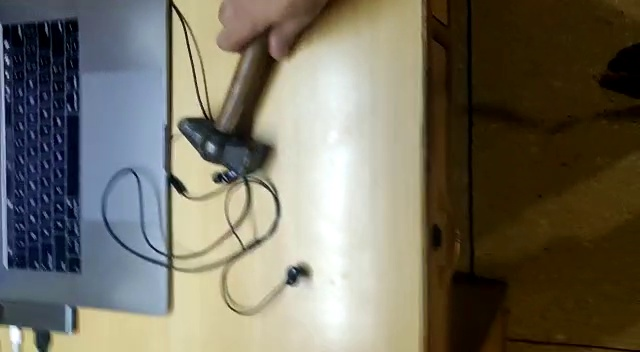hammer: (177, 35, 277, 179)
